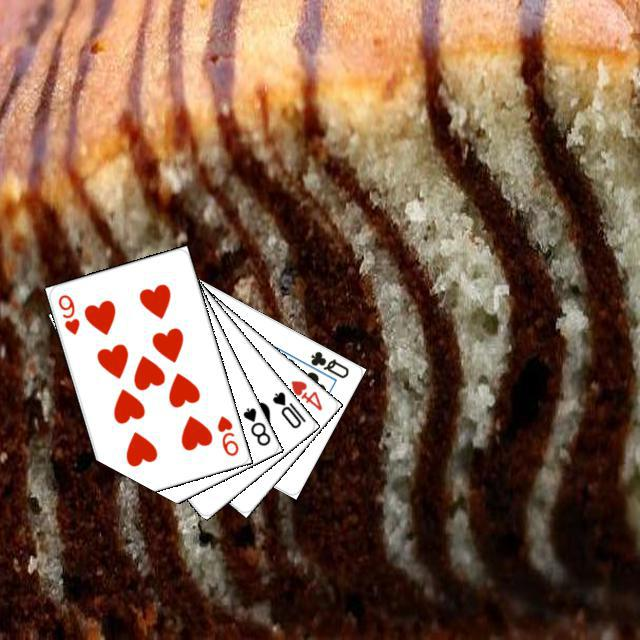10s: (267, 386, 308, 430)
4h: (286, 375, 324, 412)
8s: (238, 403, 272, 448)
9h: (212, 410, 240, 458), (53, 289, 81, 337)
Qc: (297, 346, 351, 384)
